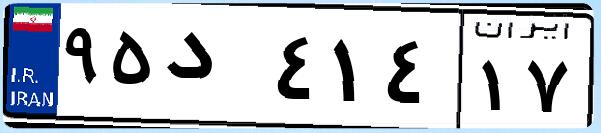1: (330, 28, 385, 110), (475, 38, 525, 113)
4: (270, 28, 330, 110), (385, 28, 445, 110)
5: (110, 28, 158, 98)
7: (525, 38, 570, 115)
9: (57, 26, 110, 100)
د: (158, 20, 270, 120)
